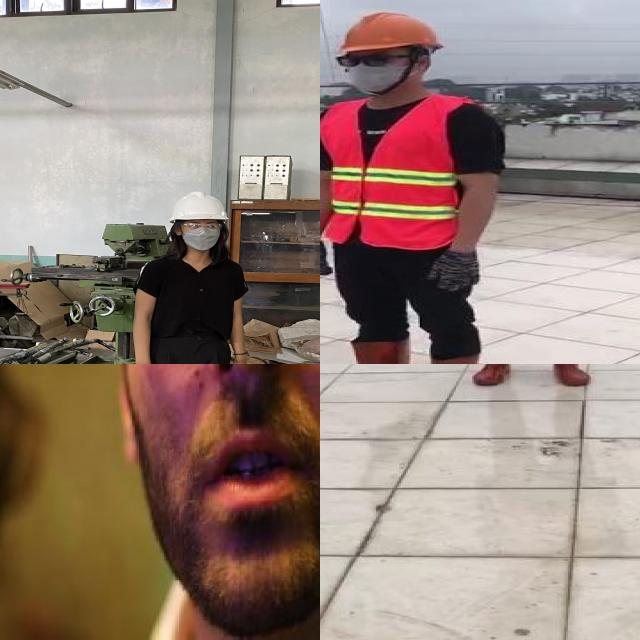boots: (324, 338, 413, 364), (543, 364, 594, 389), (472, 364, 518, 386)
face_mask: (333, 52, 407, 92), (178, 218, 225, 250)
face_nomask: (118, 364, 320, 521)
glasses: (333, 49, 404, 70), (178, 220, 226, 233)
hand_glove: (426, 252, 488, 293), (320, 240, 336, 278)
head_helmet: (330, 10, 448, 54), (165, 190, 231, 223)
person: (320, 5, 517, 364), (118, 187, 262, 364)
vest: (320, 95, 479, 251)
